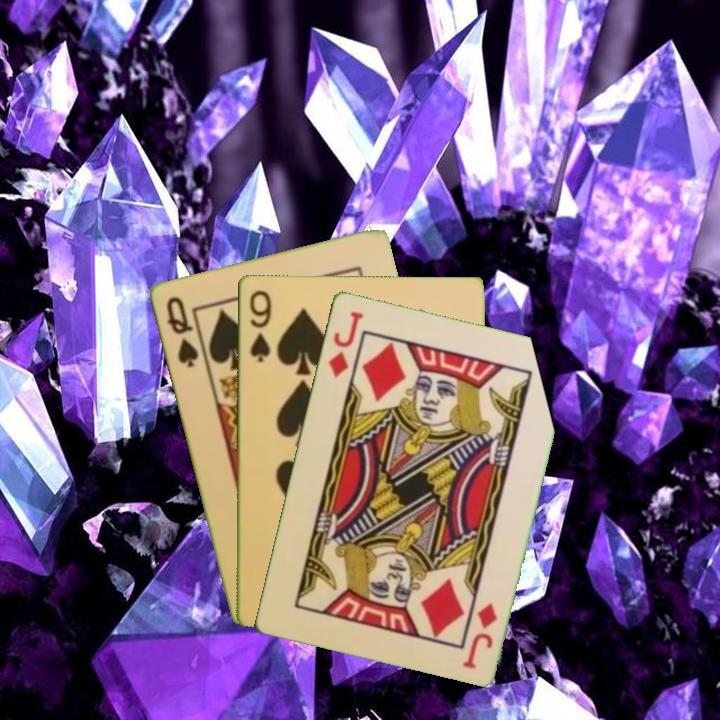9s: (245, 286, 274, 365)
Jd: (324, 307, 366, 380), (459, 598, 500, 672)
Qs: (162, 292, 201, 370)
